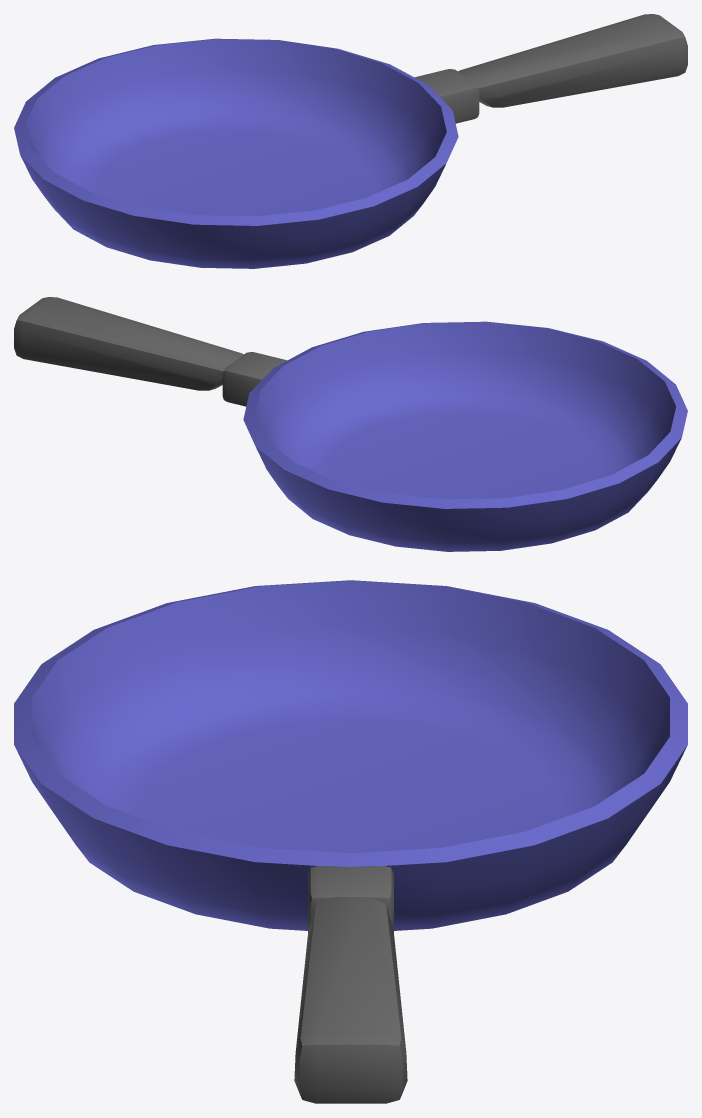
The model's file is SM_pan_02.fbx.
The picture shows the model from 3 angles, top to bottom: view 1: azimuth 30°, elevation 25°; view 2: azimuth 150°, elevation 25°; view 3: azimuth 270°, elevation 25°; orthographic projection. The views are drawn at different scales.
Parts seen in each view (by area): view 1: Box386; view 2: Box386; view 3: Box386.
Part boxes in pixels (box(x1,y1,x2,y2)): Box386: box(14, 14, 687, 268); Box386: box(14, 297, 687, 551); Box386: box(14, 580, 687, 1103).
Bounding box in the file's own units: 40.81 × 4.56 × 24.69.
